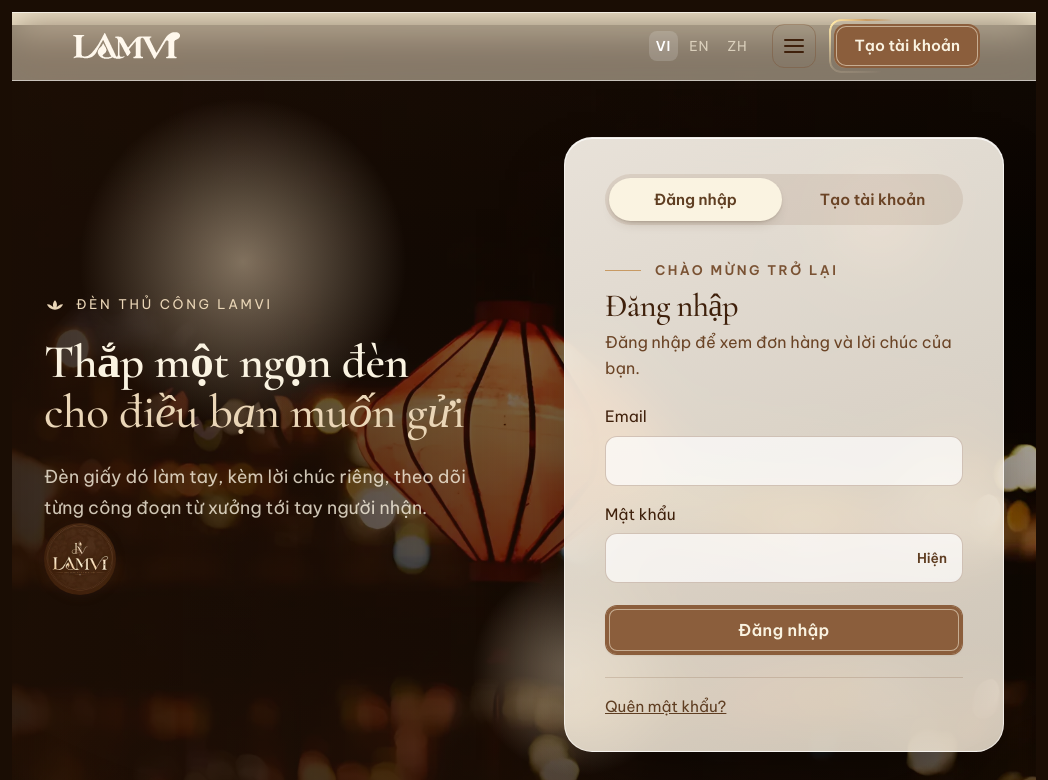
nút hiện/ẩn mật khẩu › /login: đổi type, aria-pressed, nhãn và giữ giá trị
This screenshot has width=1048, height=780.
Expected: the heading "Đăng nhập" is shown, [605, 286, 738, 325]
Step 1. Type "bi-mat-123" into the password field labelled "Mật khẩu" → {"x": 784, "y": 558}, box [605, 533, 963, 583]
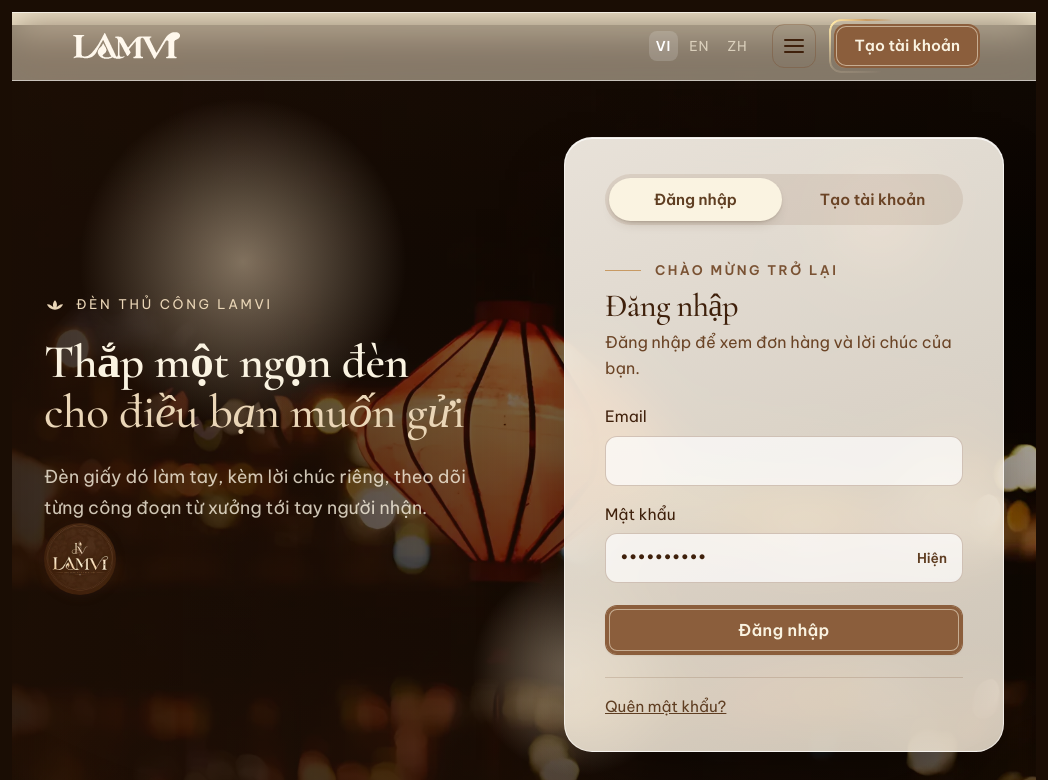
Step 2. Click the button "Hiện" → {"x": 932, "y": 558}, box [907, 541, 957, 575]
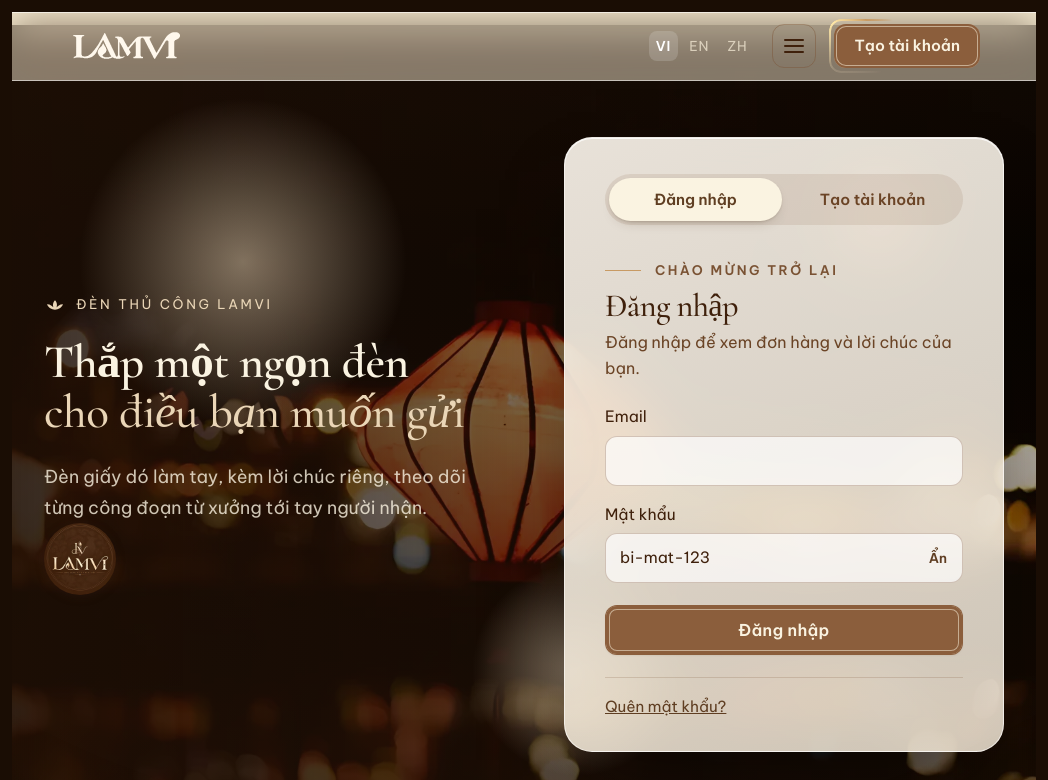
Result: the field labelled "Mật khẩu" shows its text at [605, 533, 963, 583]
Step 3. Click the button "Ẩn" → {"x": 938, "y": 558}, box [919, 541, 957, 575]
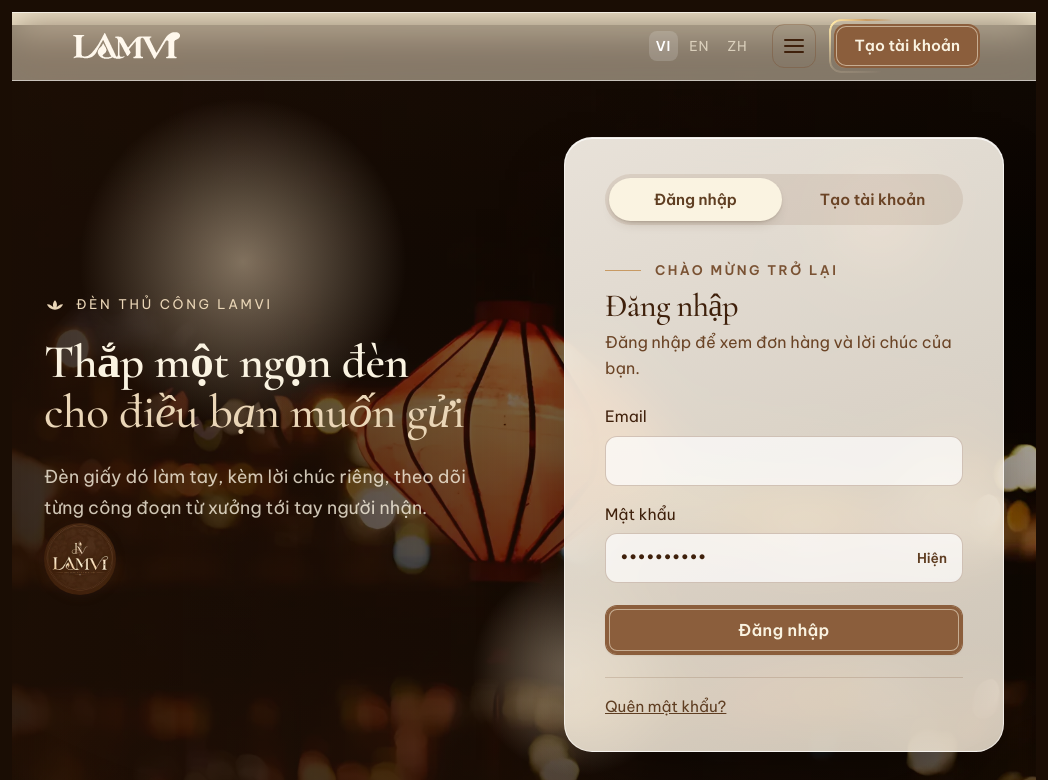
Result: the password field labelled "Mật khẩu" hides its text at [605, 533, 963, 583]
